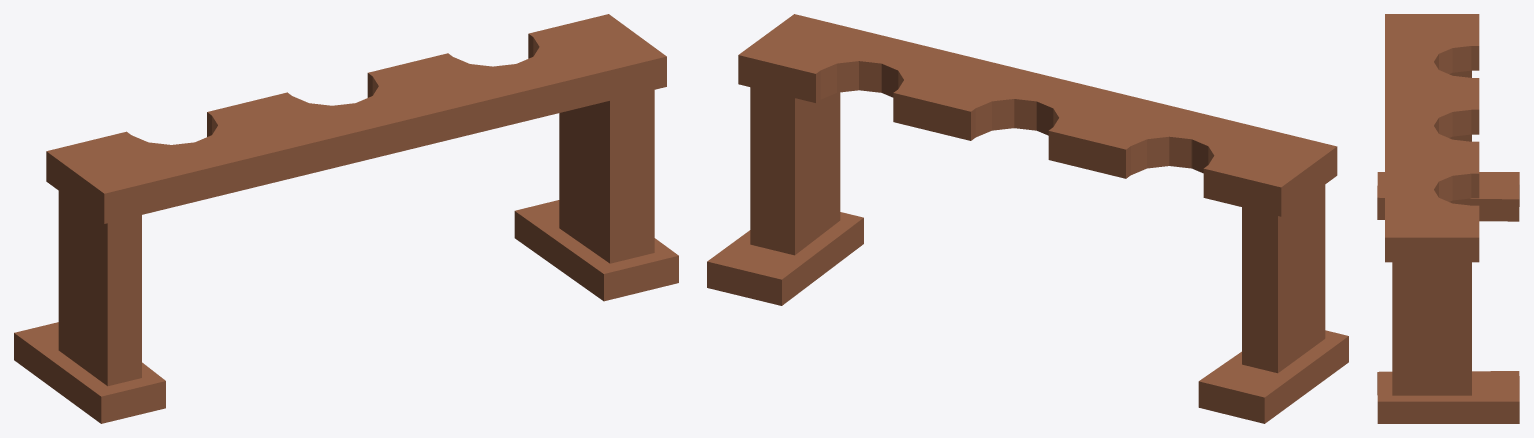
Rendered from WeaponHolder_003.fbx.
3 views of the same model, side by side, from view 1: azimuth 30°, elevation 25°; view 2: azimuth 150°, elevation 25°; view 3: azimuth 270°, elevation 25° (orthographic). The views are drawn at different scales.
Visible parts, largest first — view 1: WeaponHolder.003; view 2: WeaponHolder.003; view 3: WeaponHolder.003.
Part boxes in pixels (x1,y1,x2,y2): WeaponHolder.003: (14,14,678,423); WeaponHolder.003: (707,14,1348,423); WeaponHolder.003: (1377,14,1519,423).
Bounding box in the file's own units: 3.09 × 1.15 × 0.8077.
